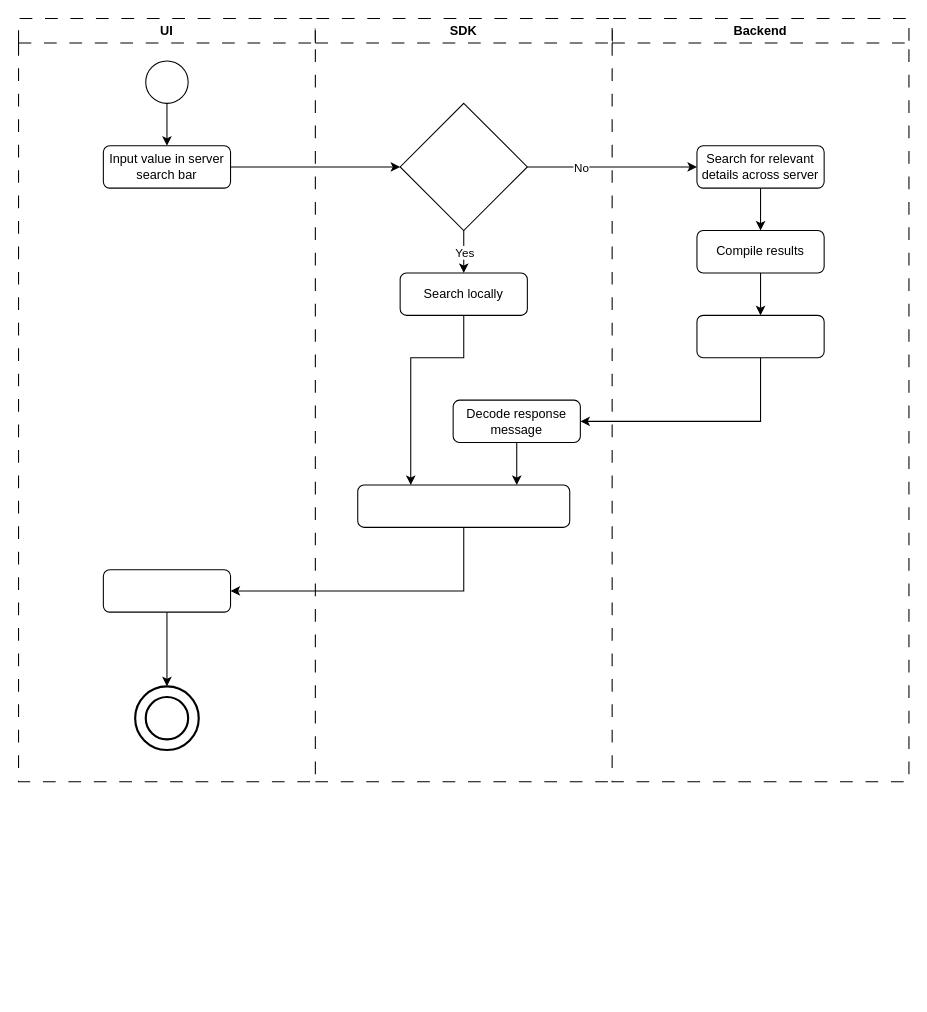
Some shapes in this 927 by 1012 pixel diagram are drawn without their labels. Here are the shapes that lost their labels. From the top down, the box of each, then its label:
(399, 102, 527, 231): E2EE
(696, 314, 824, 358): Make response
(357, 484, 570, 527): Combine results
(102, 569, 231, 612): Display results to user
